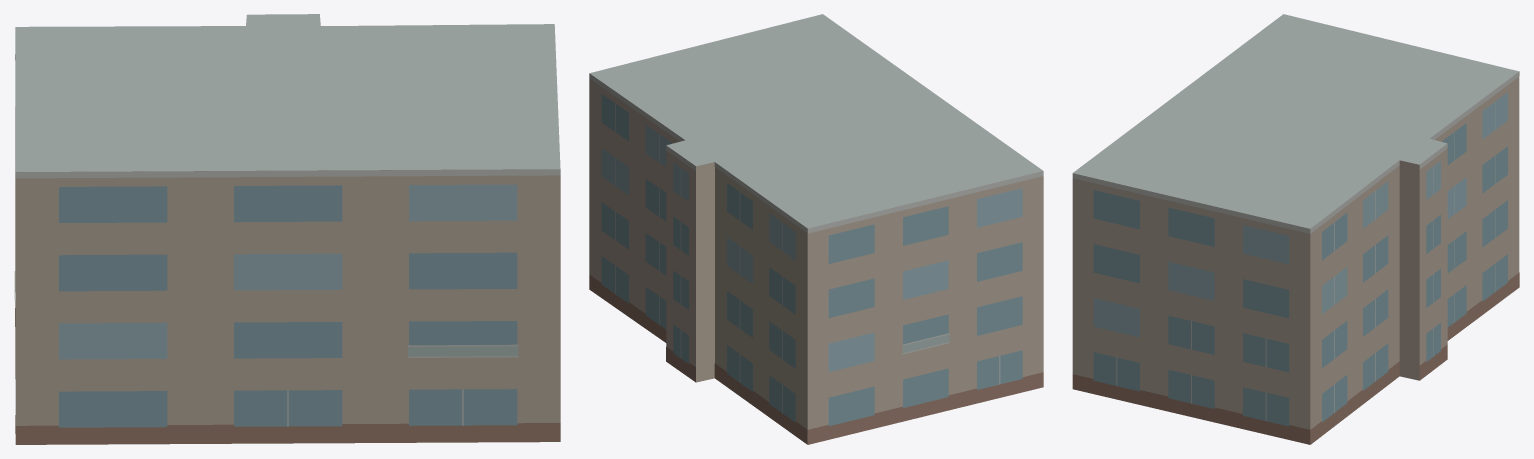
The model's file is survey-upis-32709506.glb.
3 views of the same model, side by side, from view 1: azimuth 30°, elevation 25°; view 2: azimuth 150°, elevation 25°; view 3: azimuth 270°, elevation 25° (orthographic). The views are drawn at different scales.
Visible parts, largest first — view 1: survey-upis-32709506.tmp; view 2: survey-upis-32709506.tmp; view 3: survey-upis-32709506.tmp.
Boxes of the visible parts, x1,y1,x2,y2 form: survey-upis-32709506.tmp: (14,14,560,444); survey-upis-32709506.tmp: (589,14,1043,444); survey-upis-32709506.tmp: (1072,14,1519,444).
Bounding box in the file's own units: 22.62 × 10.6 × 19.88.
